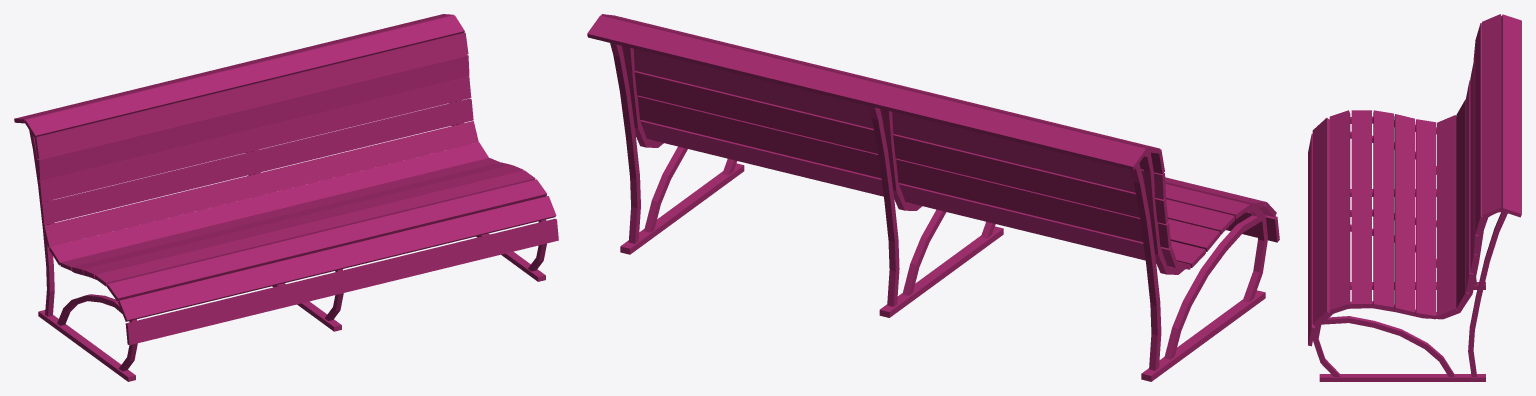
Rendered from pk_bench.FBX.
3 renders of one model, left to right at view 1: azimuth 30°, elevation 25°; view 2: azimuth 150°, elevation 25°; view 3: azimuth 270°, elevation 25°, orthographic. The views are drawn at different scales.
Visible parts, largest first — view 1: bnch; view 2: bnch; view 3: bnch.
Boxes of the visible parts, x1,y1,x2,y2 form: bnch: [14, 14, 558, 381]; bnch: [587, 14, 1279, 381]; bnch: [1308, 14, 1521, 381].
Bounding box in the file's own units: 2.43 × 1.04 × 1.13.
